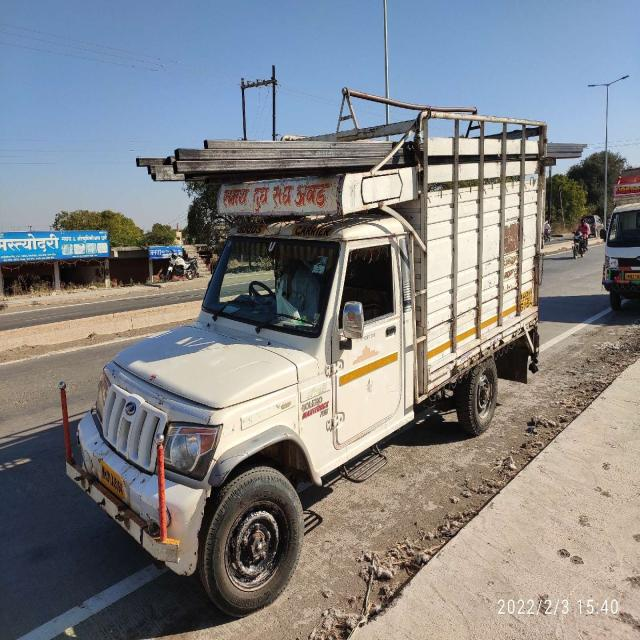light_vehicle: (77, 182, 547, 542)
